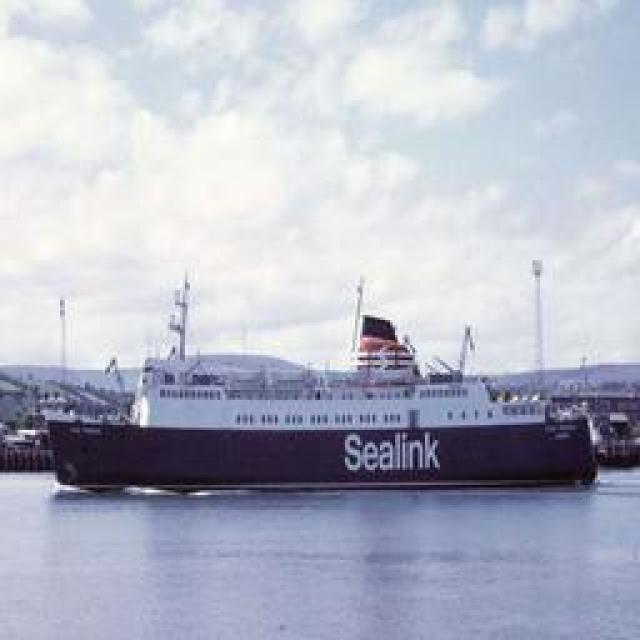Ship: (24, 319, 624, 494)
